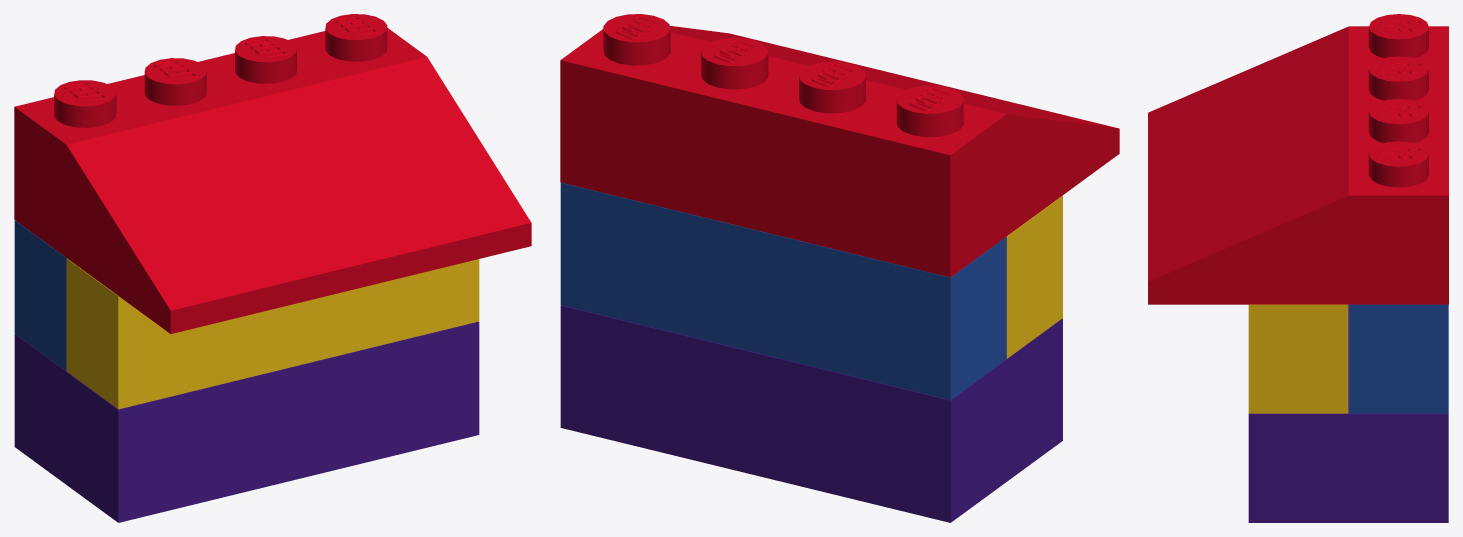
3 renders of one model, left to right at view 1: azimuth 30°, elevation 25°; view 2: azimuth 150°, elevation 25°; view 3: azimuth 270°, elevation 25°, orthographic. The views are drawn at different scales.
Visible parts, largest first — view 1: step04_red_slope3x4_3297, step01_darkpurple_2x4_3001, step02_yellow_1x4_3010, step03_blue_1x4_3010; view 2: step04_red_slope3x4_3297, step01_darkpurple_2x4_3001, step03_blue_1x4_3010, step02_yellow_1x4_3010; view 3: step04_red_slope3x4_3297, step01_darkpurple_2x4_3001, step02_yellow_1x4_3010, step03_blue_1x4_3010.
Part boxes in pixels (x1,y1,x2,y2): step04_red_slope3x4_3297: [14, 14, 531, 333]; step01_darkpurple_2x4_3001: [14, 321, 479, 522]; step02_yellow_1x4_3010: [66, 258, 479, 409]; step03_blue_1x4_3010: [14, 220, 66, 371]; step04_red_slope3x4_3297: [560, 14, 1119, 277]; step01_darkpurple_2x4_3001: [560, 305, 1062, 522]; step03_blue_1x4_3010: [560, 182, 1006, 399]; step02_yellow_1x4_3010: [1006, 195, 1062, 358]; step04_red_slope3x4_3297: [1148, 14, 1448, 304]; step01_darkpurple_2x4_3001: [1248, 304, 1448, 522]; step02_yellow_1x4_3010: [1248, 304, 1348, 413]; step03_blue_1x4_3010: [1349, 304, 1448, 413].
Bounding box in the file's own units: 0.0319 × 0.0307 × 0.024.
